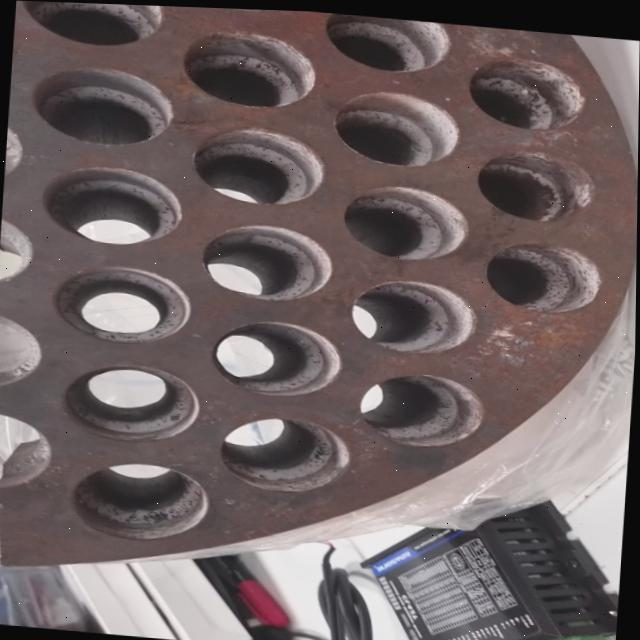Hole: (29, 61, 177, 149), (40, 160, 187, 247), (69, 455, 212, 544), (59, 358, 203, 445), (50, 260, 195, 346), (180, 24, 319, 109), (190, 120, 327, 206), (217, 408, 354, 493), (199, 217, 336, 302), (209, 314, 344, 399), (339, 177, 472, 262), (332, 84, 463, 167), (349, 272, 479, 354), (359, 366, 488, 447), (464, 49, 587, 129), (473, 143, 597, 220), (483, 235, 604, 313), (321, 9, 452, 72), (17, 1, 165, 50)
